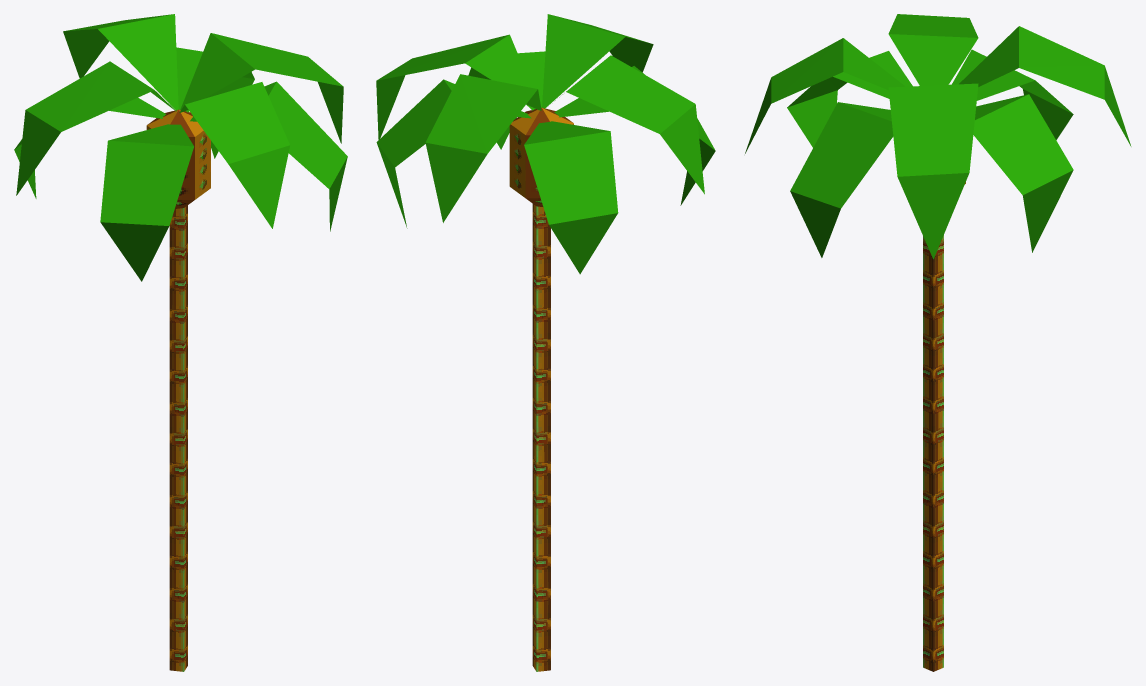
Rendered from green-hill-palm-tree.glb.
The picture shows the model from 3 angles, left to right: view 1: azimuth 30°, elevation 25°; view 2: azimuth 150°, elevation 25°; view 3: azimuth 270°, elevation 25°; orthographic projection.
Visible parts, largest first — view 1: Green Hill Palm Tree; view 2: Green Hill Palm Tree; view 3: Green Hill Palm Tree.
Boxes of the visible parts, <box> form: Green Hill Palm Tree: <box>14,14,347,671</box>; Green Hill Palm Tree: <box>376,14,715,671</box>; Green Hill Palm Tree: <box>745,14,1131,671</box>.
Bounding box in the file's own units: 43.26 × 78.5 × 44.29.
3 materials, 3 textured.
